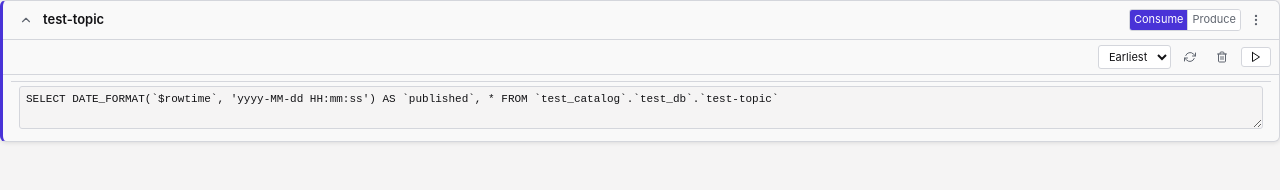
Test: [@stream-card] StreamCard › auto-stop on produce error
# Switch to Produce mode and start producer
Click the button "Produce": (1214, 20) [1188, 10, 1240, 30]
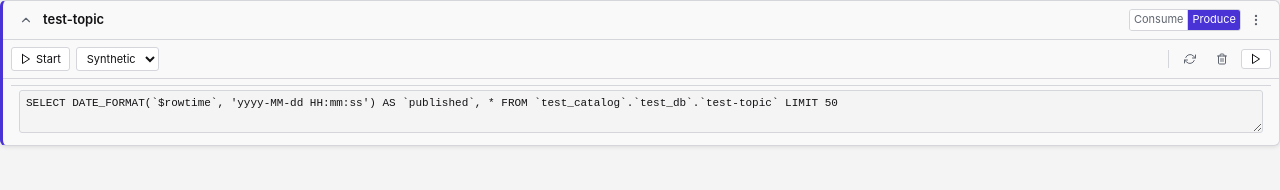
Click the button with aria-label "Start producer": (40, 59) [11, 47, 70, 71]
Wait 1000 ms
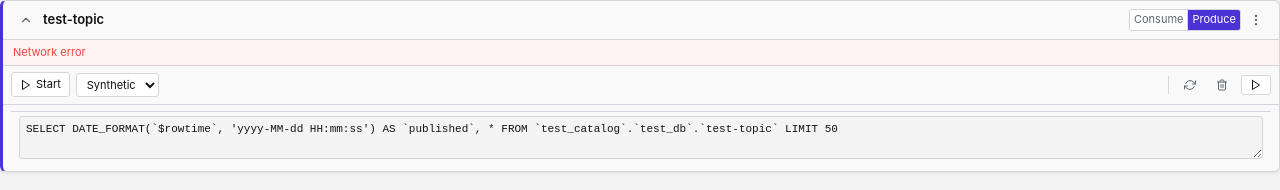
Result: the text "Network error" is shown at [3, 40, 1279, 66]
